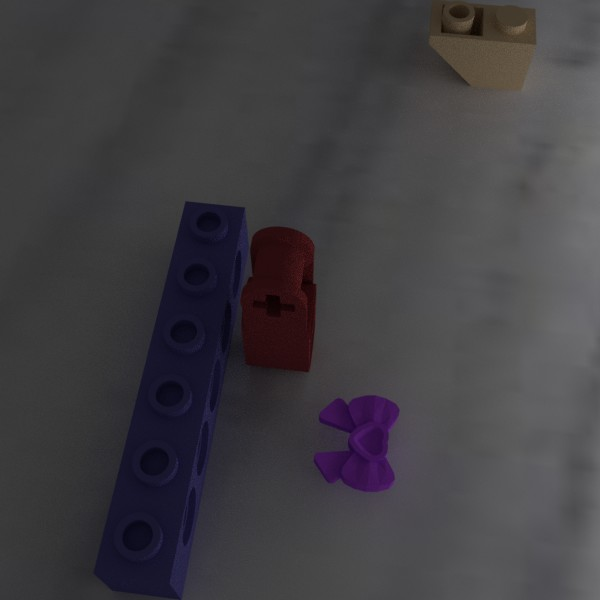lego: (93, 201, 249, 599), (240, 226, 316, 372), (428, 0, 536, 90), (313, 395, 399, 491)
